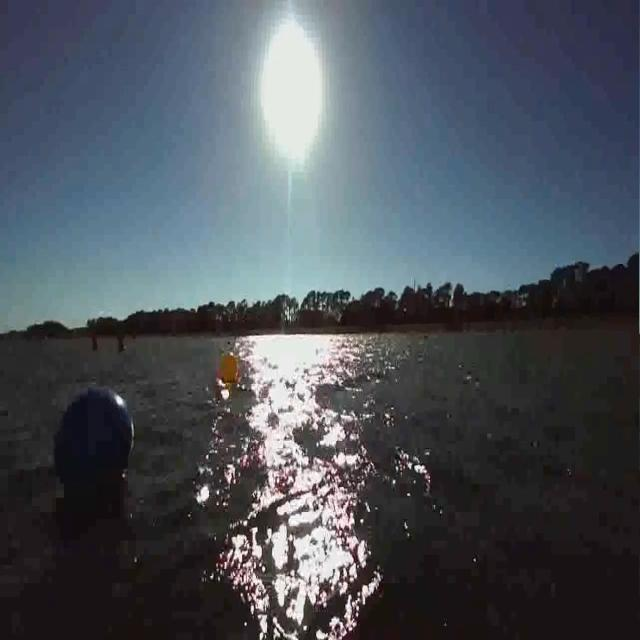blue-buoy: (49, 380, 135, 496)
yellow-buoy: (220, 352, 241, 384)
